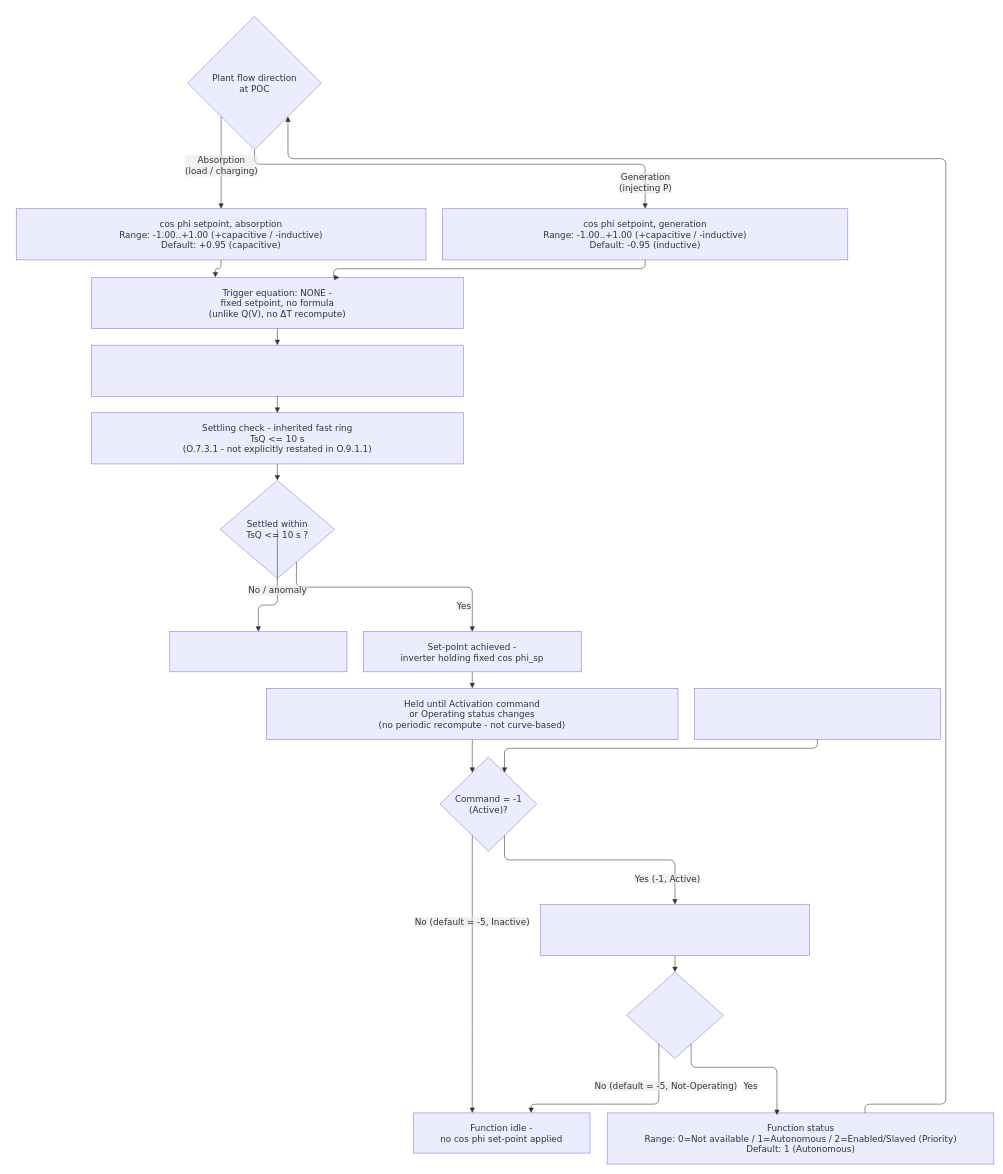
This 1003x1174 diagram has some shape labels left out. Here are the shapes that lost their labels. From the top down, the centre of each, then its label:
the point at 277,370: accepted cosφ target to fast control ring
the point at 258,651: Flag deviation (see O.13.6 self-diagnostics)
the point at 817,713: Activation command Range:-5=Inactive / -1=Active Default: -5
the point at 675,930: Operating status Range: -1=Operating / -5=Inavtice / +5 = off Default: -5
the point at 674,1015: Status = -1 (Operating)?
